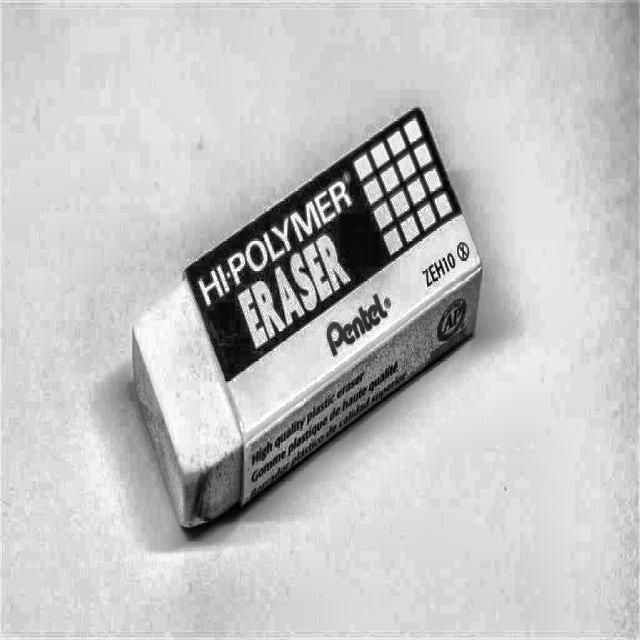eraser: (125, 100, 486, 533)
